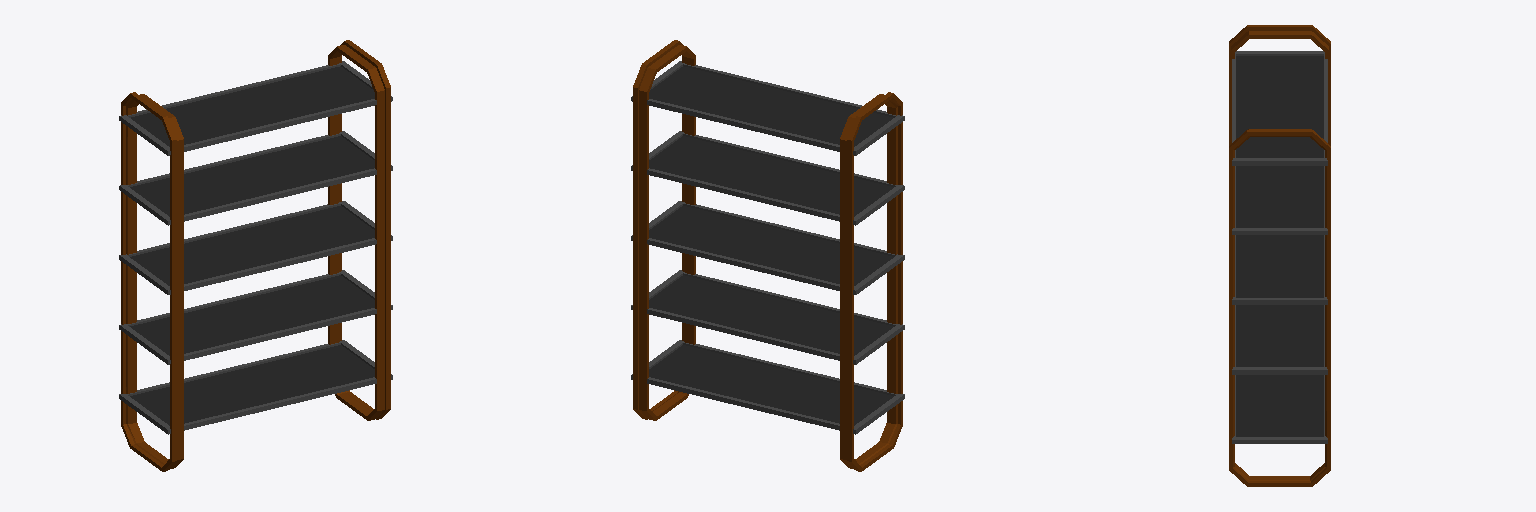
File: Props_Shelf_Tall.obj
3 renders of one model, left to right at view 1: azimuth 30°, elevation 25°; view 2: azimuth 150°, elevation 25°; view 3: azimuth 270°, elevation 25°, orthographic.
Parts seen in each view (by area): view 1: Props_Shelf_Tall_Cube.005; view 2: Props_Shelf_Tall_Cube.005; view 3: Props_Shelf_Tall_Cube.005.
Boxes of the visible parts, <box> form: Props_Shelf_Tall_Cube.005: <box>119,40,392,471</box>; Props_Shelf_Tall_Cube.005: <box>631,40,904,471</box>; Props_Shelf_Tall_Cube.005: <box>1229,25,1330,486</box>.
Size of the model in its own units: 2.06 by 3.11 by 0.8108.